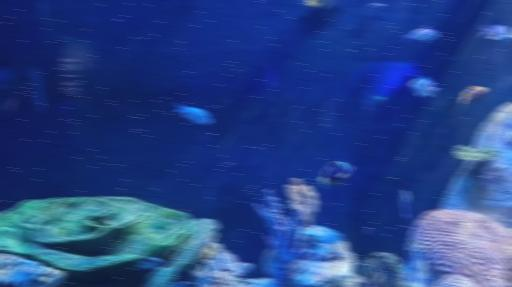Fish: (408, 240, 428, 286), (321, 161, 350, 187), (175, 103, 210, 124), (409, 76, 438, 97), (478, 25, 511, 41), (459, 86, 486, 103), (404, 28, 437, 41), (401, 190, 408, 219), (307, 0, 318, 5)
